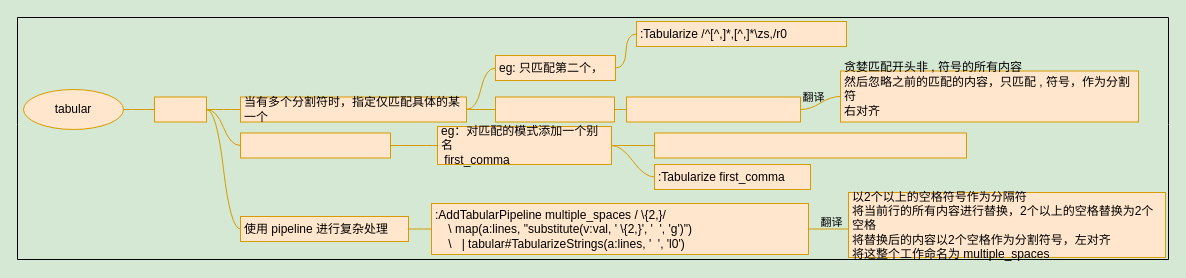
This 1186x278 diagram has some shape labels left out. Here are the shapes that lost their labels. From the top down, the centre of each, then its label:
At (180,109): "进阶用法".
At (554,109): "eg: 只匹配第一个，".
At (713,109): ":Tabularize /^[^,]*\zs,/r0".
At (315,145): "对匹配的模式添加一个别名".
At (810,145): ":AddTabularPattern first_comma /^[^,]*\zs,/r0c0l0".
